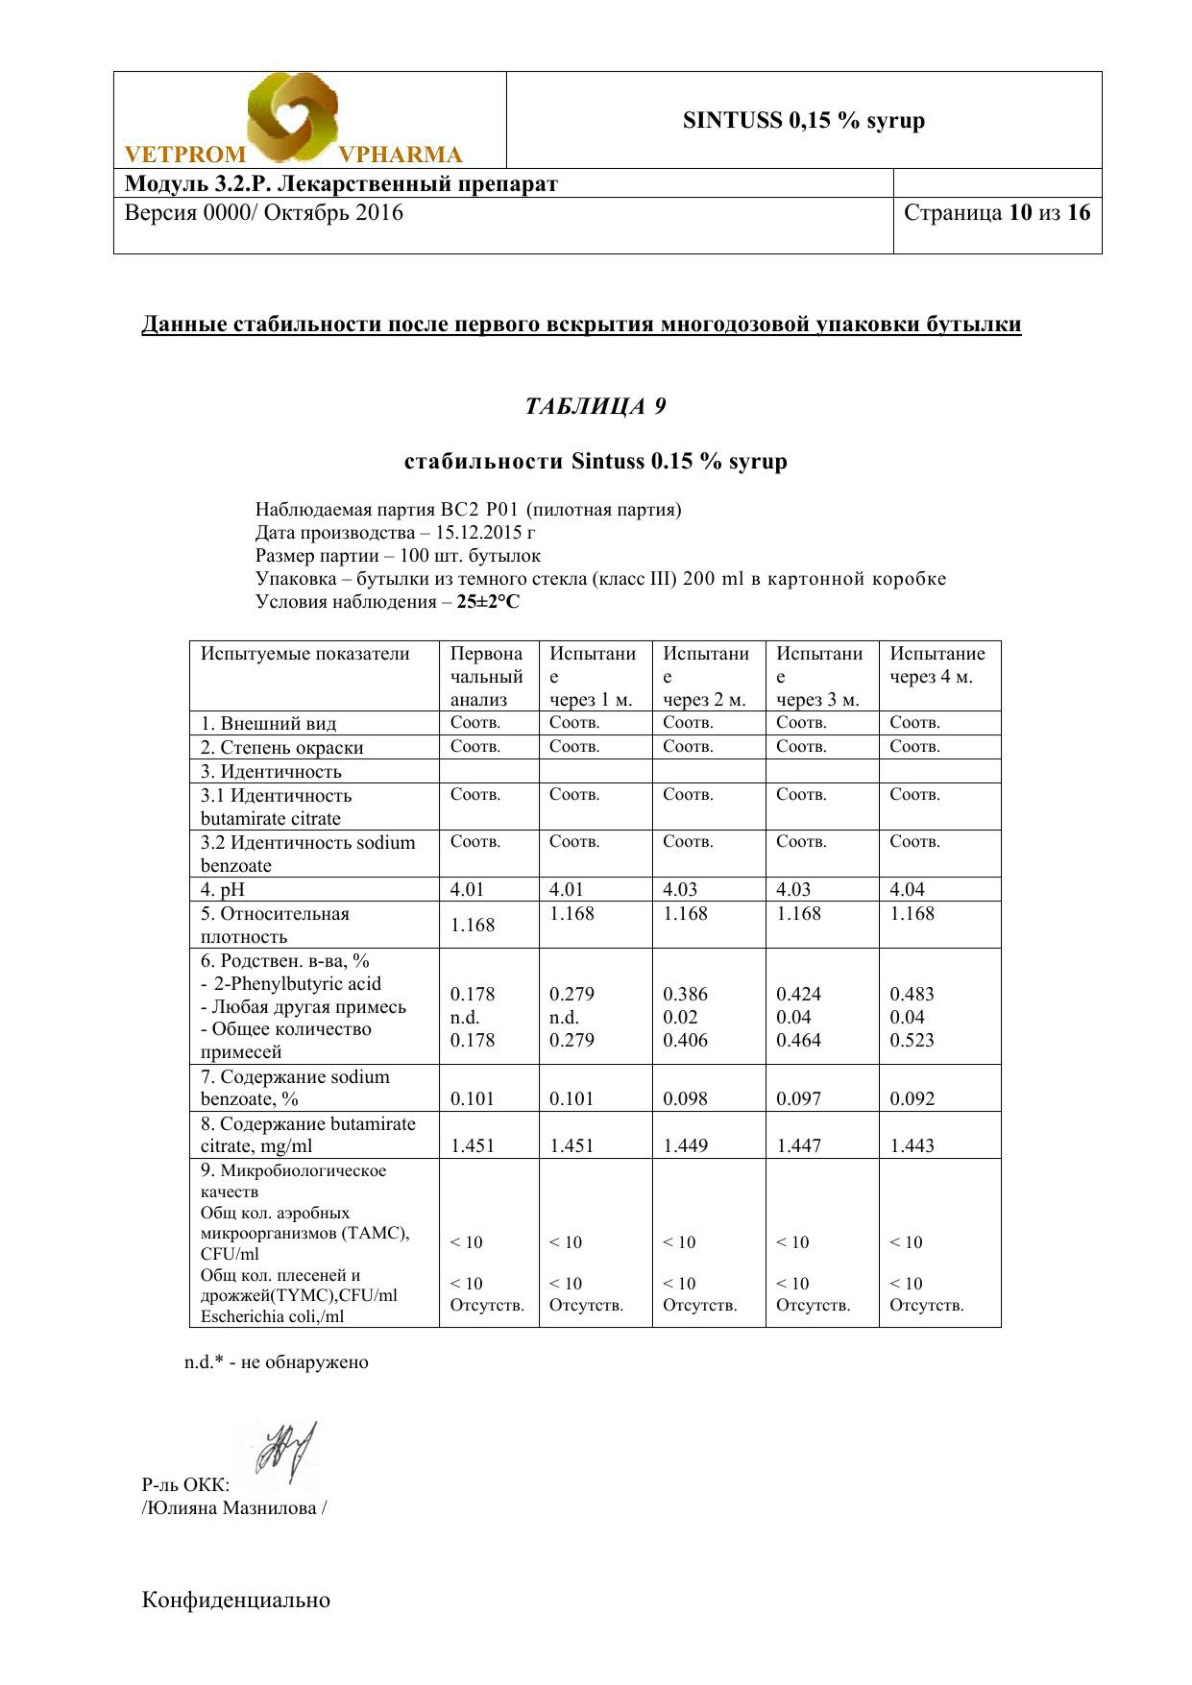full_lined: (188, 639, 1002, 1329)
merged_cells: (112, 68, 1103, 255)
